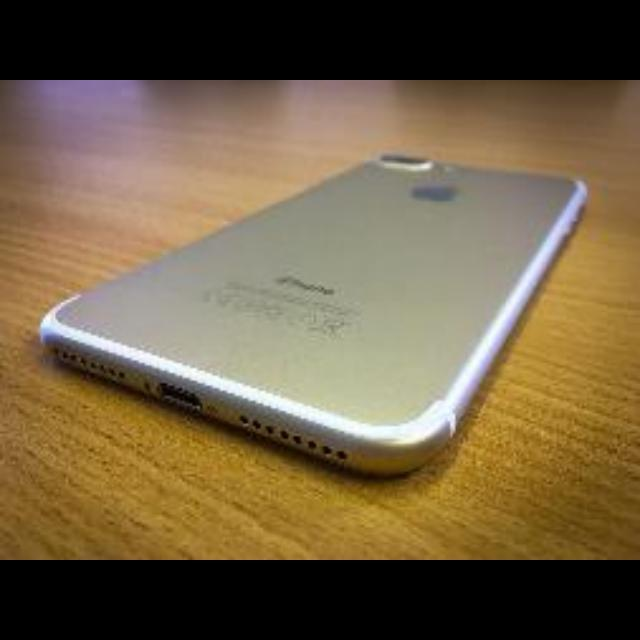Phone: (40, 151, 592, 489)
